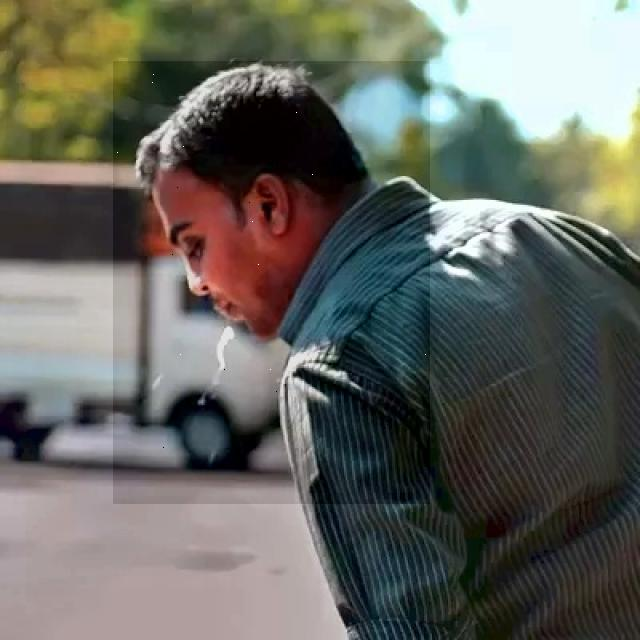Spitting: (113, 61, 430, 504)
